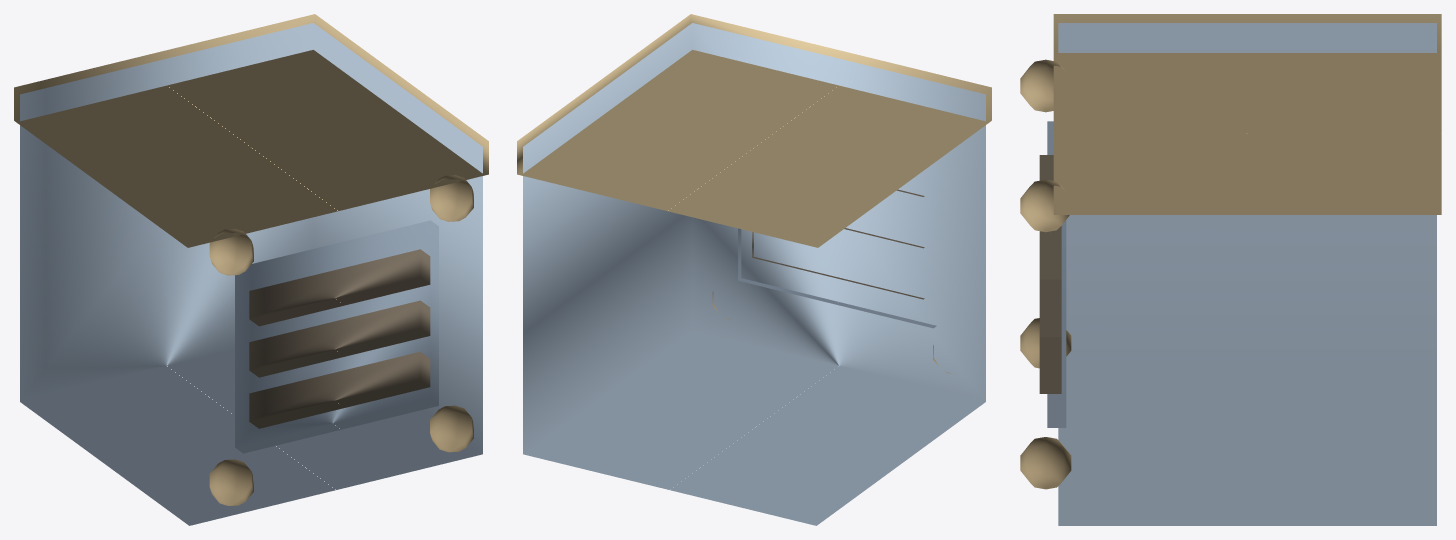
Rendered from block_vent.glb.
3 renders of one model, left to right at view 1: azimuth 30°, elevation 25°; view 2: azimuth 150°, elevation 25°; view 3: azimuth 270°, elevation 25°, orthographic. The views are drawn at different scales.
Size of the model in its own units: 24.6 by 24.5 by 26.72.
